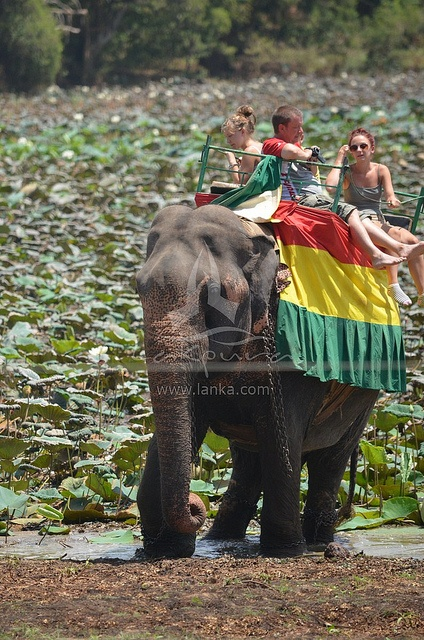elephant: (138, 199, 379, 557)
